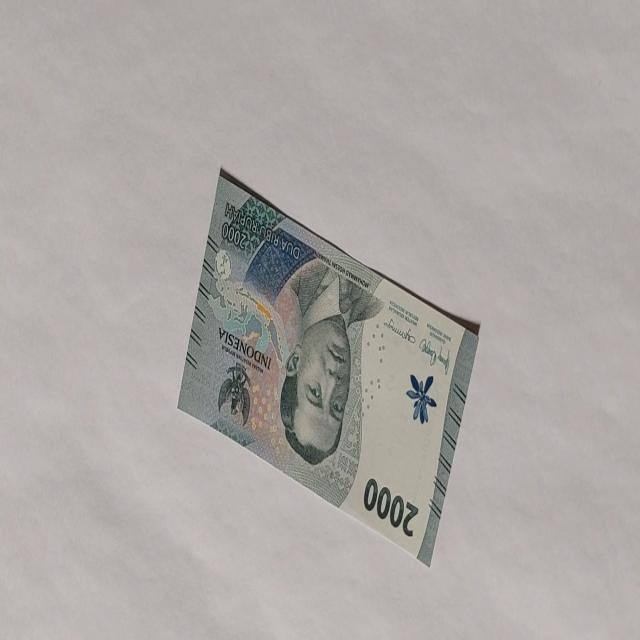dua ribu rupiah: (175, 167, 480, 568), (278, 256, 384, 467)
